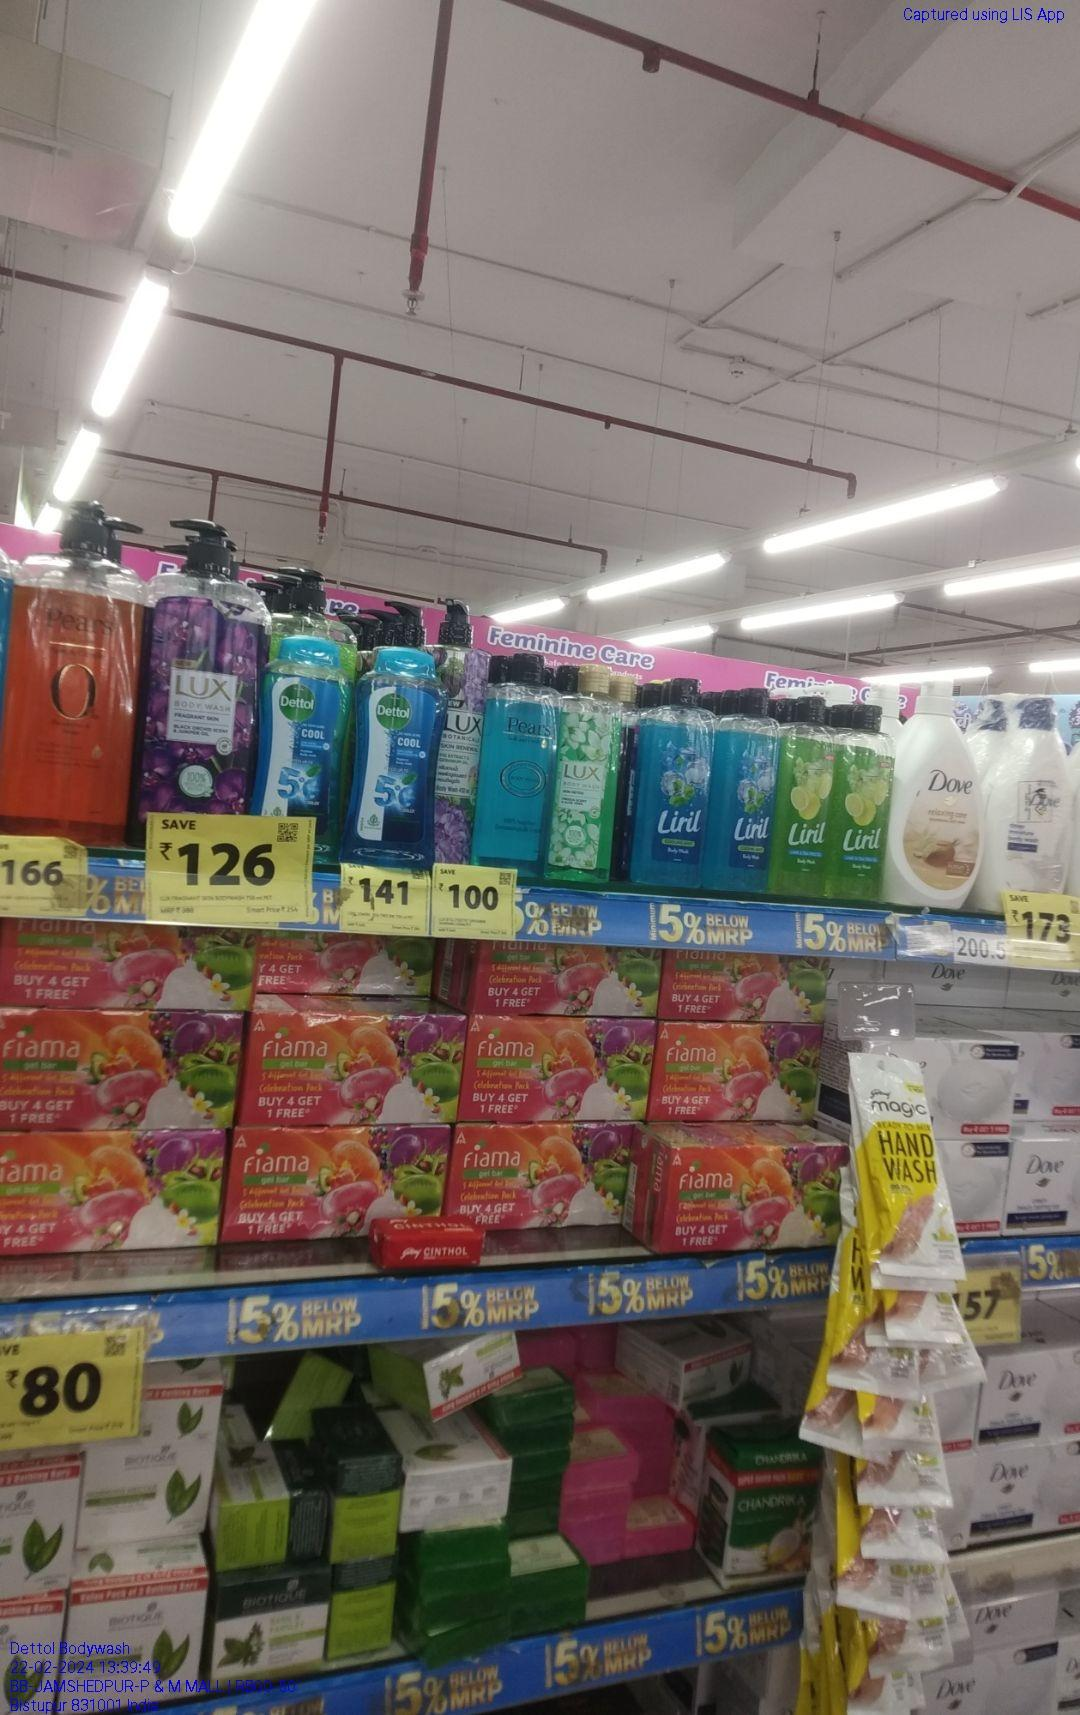Dettol_Bodywash_Cool: (347, 647, 437, 867), (256, 633, 338, 834)
Liril_Cooling_Mint_Body_Wash_250ML: (635, 678, 704, 892), (708, 685, 769, 895)
Liril_Lime_and_Tea_Tree_Oil_Body_Wash_250ML: (771, 694, 829, 897), (831, 698, 885, 899)
Lux_Body_Wash_Skin_Detox_Freesia_Scent_and_Alove_Vera_245ML: (550, 662, 616, 889)
Pears_Pure_Glycerin_and_Mint_Extracts_Body_Wash_250ML: (483, 649, 547, 879)
